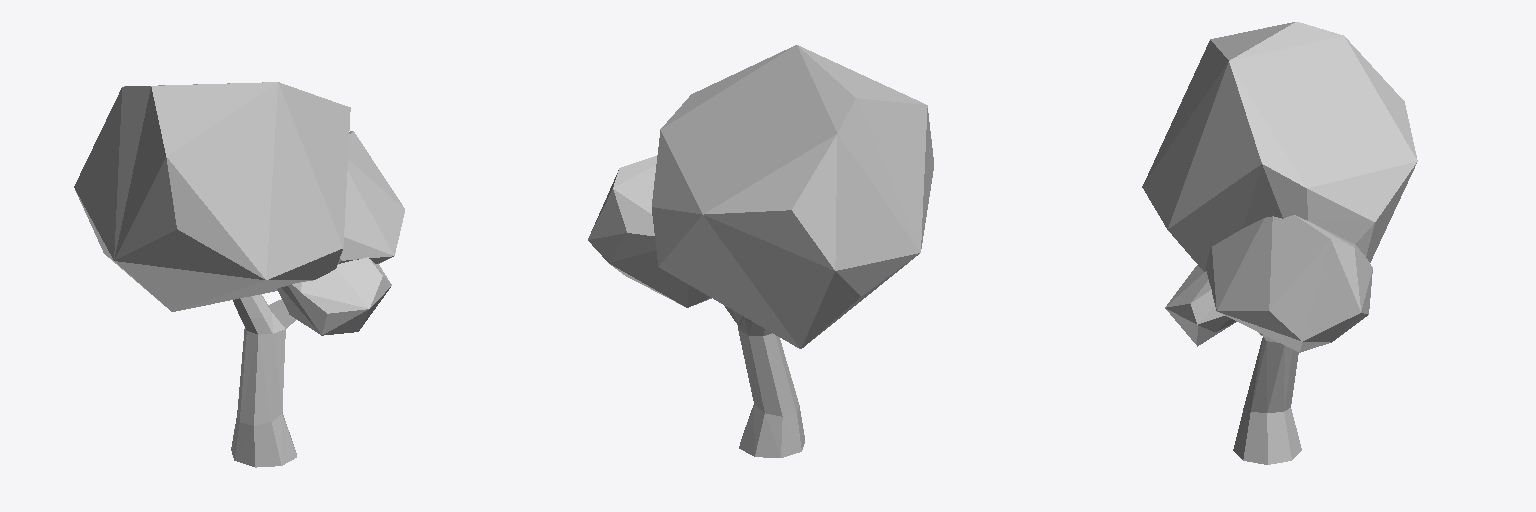
Rendered from tree_02.obj.
3 renders of one model, left to right at view 1: azimuth 30°, elevation 25°; view 2: azimuth 150°, elevation 25°; view 3: azimuth 270°, elevation 25°, orthographic.
Visible parts, largest first — view 1: tree2; view 2: tree2; view 3: tree2.
Boxes of the visible parts, x1=… form: tree2: x1=74, y1=82, x2=404, y2=467; tree2: x1=588, y1=45, x2=933, y2=457; tree2: x1=1142, y1=22, x2=1417, y2=464.
Size of the model in its own units: 15.09 by 18.92 by 12.22.